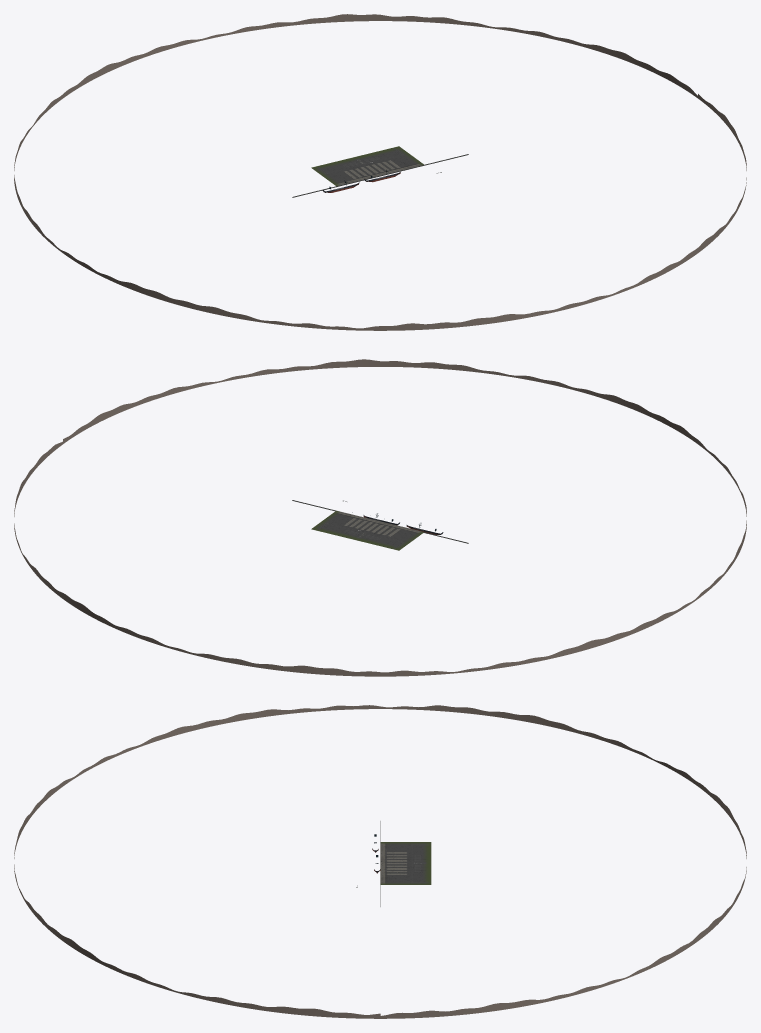
The picture shows the model from 3 angles, top to bottom: view 1: azimuth 30°, elevation 25°; view 2: azimuth 150°, elevation 25°; view 3: azimuth 270°, elevation 25°; orthographic projection.
Parts seen in each view (by area): view 1: far_ridge, ground_baked; view 2: far_ridge, ground_baked; view 3: far_ridge, ground_baked.
Boxes of the visible parts, left/top/right/bottom form: far_ridge: left=14, top=14, right=746, bottom=330; ground_baked: left=311, top=146, right=423, bottom=186; far_ridge: left=14, top=359, right=746, bottom=676; ground_baked: left=311, top=510, right=423, bottom=550; far_ridge: left=14, top=705, right=746, bottom=1018; ground_baked: left=380, top=842, right=431, bottom=884.
Size of what is drawn, in the model's own units: 7200 by 98.53 by 7200.
6 materials, 3 textured.
